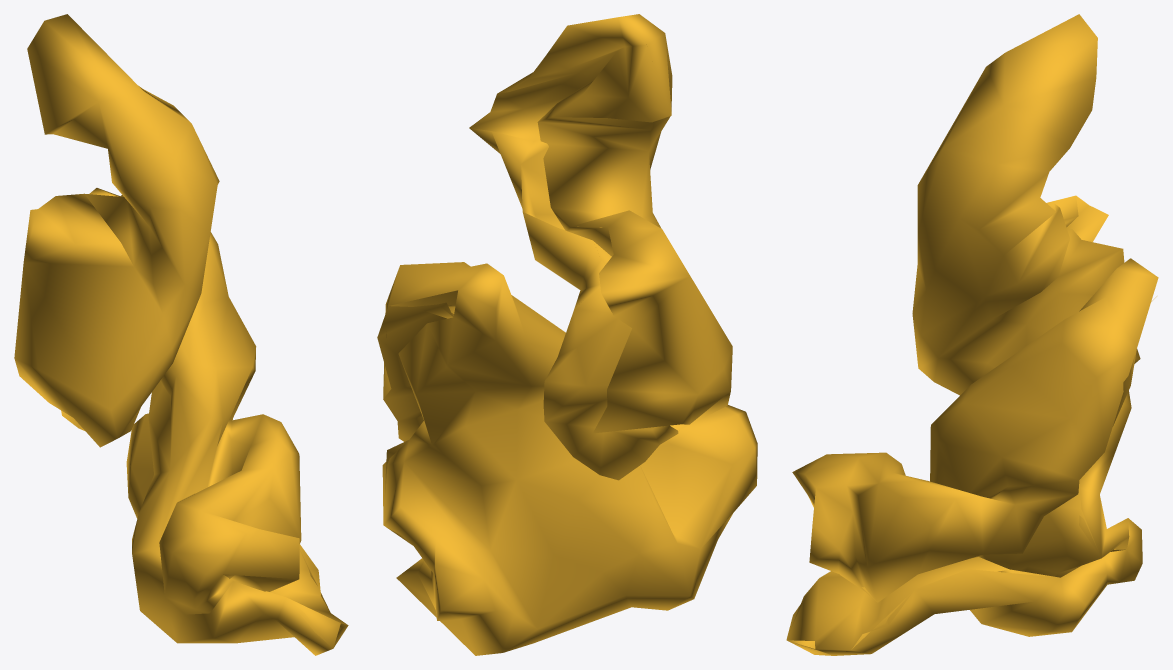
The model's file is nervoso-parieto-occipital-sulcus-r.glb.
The picture shows the model from 3 angles, left to right: view 1: azimuth 30°, elevation 25°; view 2: azimuth 150°, elevation 25°; view 3: azimuth 270°, elevation 25°; orthographic projection. The views are drawn at different scales.
Parts seen in each view (by area): view 1: Parieto-occipital sulcus.r; view 2: Parieto-occipital sulcus.r; view 3: Parieto-occipital sulcus.r.
Boxes of the visible parts, x1,y1,x2,y2 form: Parieto-occipital sulcus.r: [14, 14, 348, 655]; Parieto-occipital sulcus.r: [377, 14, 757, 655]; Parieto-occipital sulcus.r: [786, 14, 1158, 655].
Bounding box in the file's own units: 0.0225 × 0.0507 × 0.0299.
